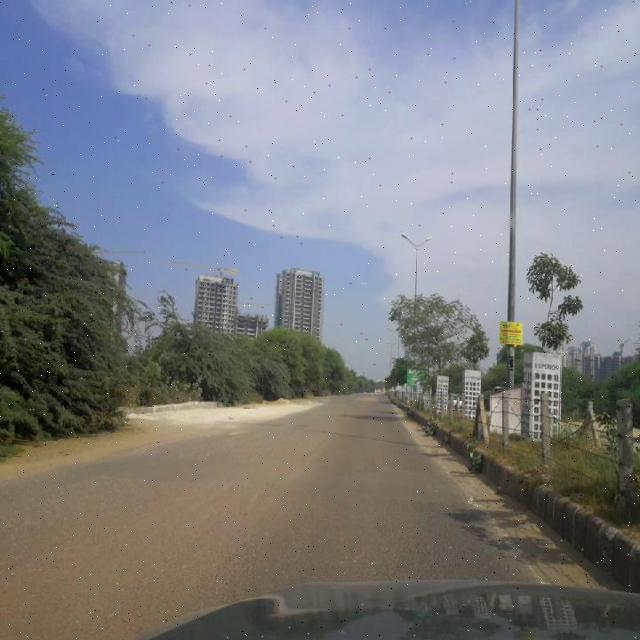D20: (0, 454, 527, 575)
D44: (438, 454, 540, 577)
